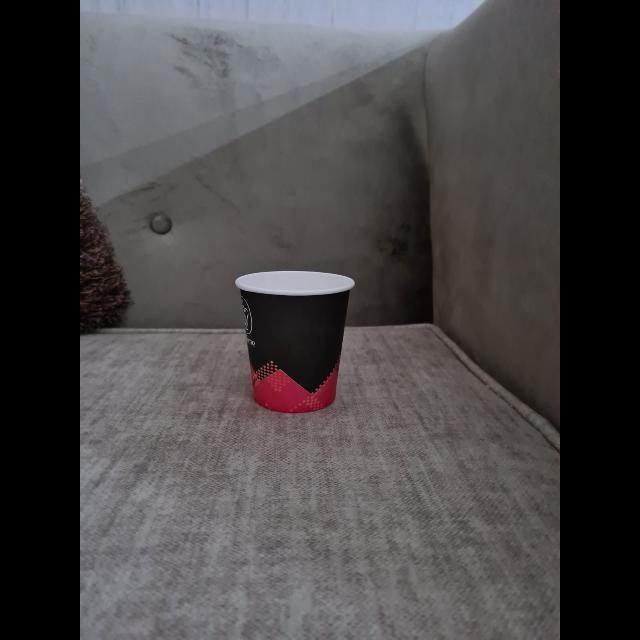trash: (233, 270, 359, 414)
